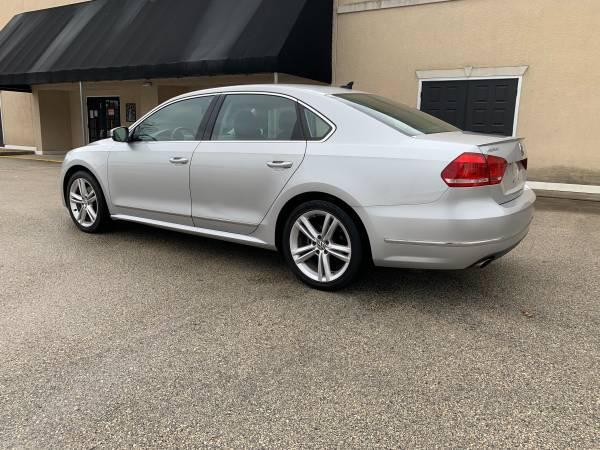Front_Fender: (59, 139, 114, 214)
Front_Left_Door: (109, 140, 202, 232)
Front_Left_Window: (118, 96, 222, 141)
Left_Taillight: (441, 153, 509, 190)
Rear_Bumper: (352, 183, 533, 268)
Rear_Fender: (293, 102, 481, 208)
Rear_Left_Door: (188, 142, 310, 244)
Rear_Left_Window: (201, 91, 309, 140)
Rear_Windshield: (338, 93, 462, 135)
Roof: (127, 86, 431, 142)
Tailgate: (422, 132, 530, 203)
Wheel: (278, 194, 363, 285), (64, 172, 108, 237)
